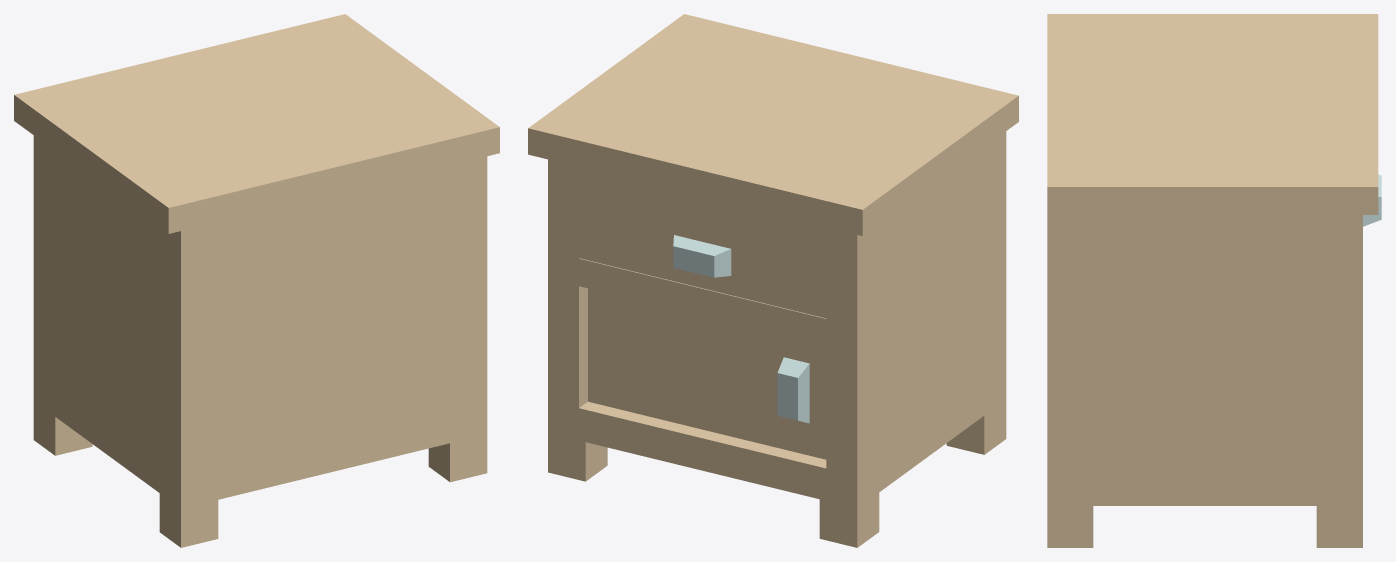
The model's file is cabinetBedDrawer.glb.
3 views of the same model, side by side, from view 1: azimuth 30°, elevation 25°; view 2: azimuth 150°, elevation 25°; view 3: azimuth 270°, elevation 25° (orthographic). The views are drawn at different scales.
Visible parts, largest first — view 1: cabinetBedDrawer; view 2: cabinetBedDrawer; view 3: cabinetBedDrawer.
Part boxes in pixels (x1,y1,x2,y2): cabinetBedDrawer: (14,14,499,547); cabinetBedDrawer: (528,14,1018,547); cabinetBedDrawer: (1047,14,1381,547).
Size of the model in its own units: 2.66 by 2.63 by 2.17.
